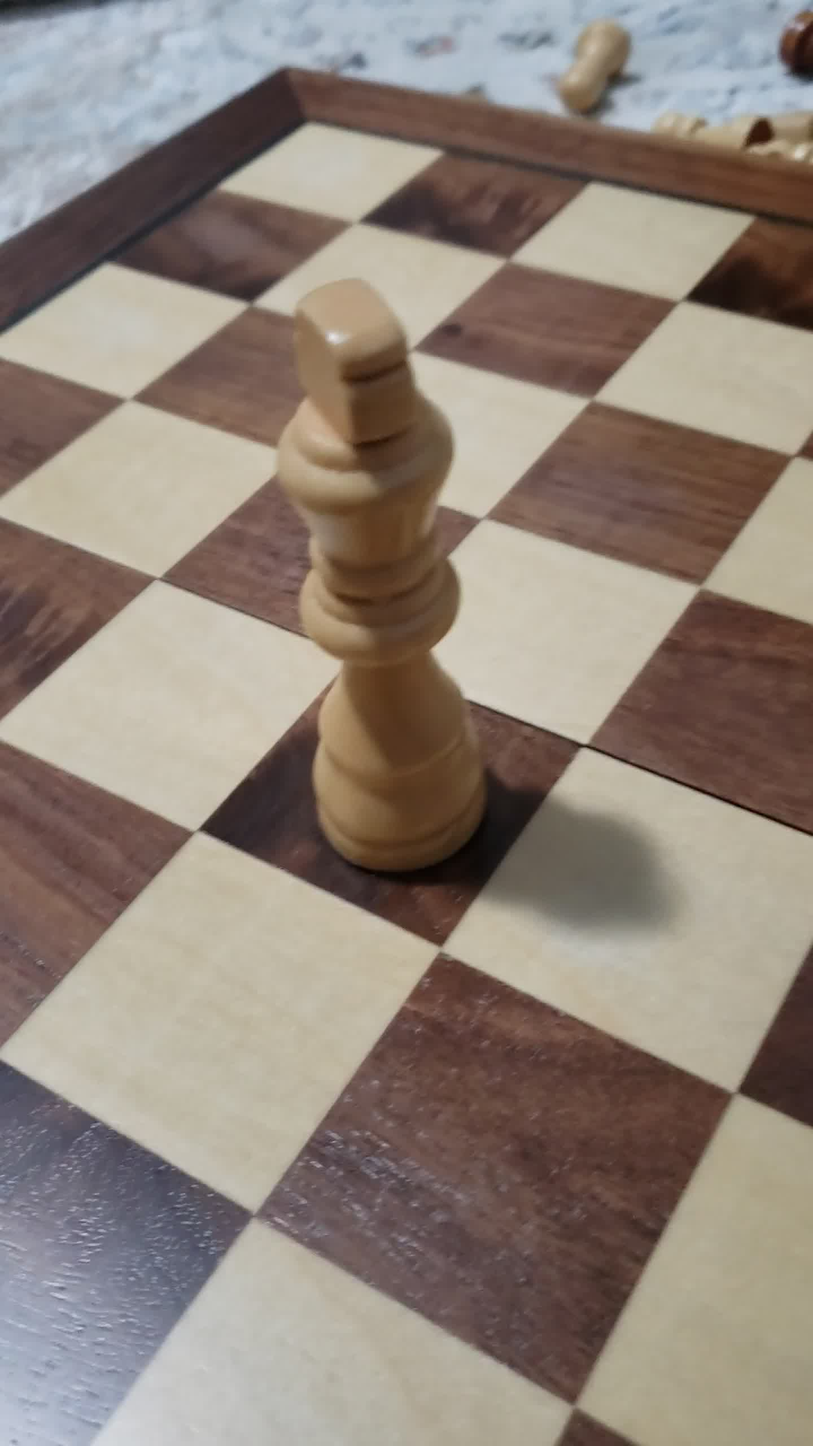white-king: (223, 277, 541, 897)
